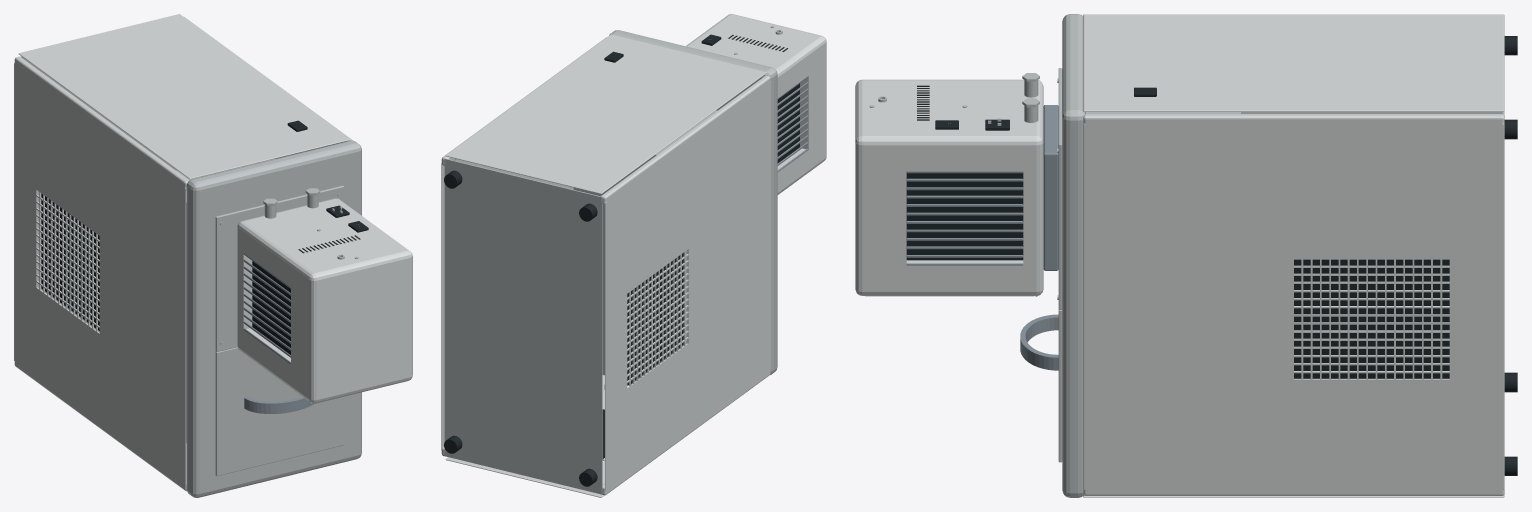
File: prepared_bath.glb
3 renders of one model, left to right at view 1: azimuth 30°, elevation 25°; view 2: azimuth 150°, elevation 25°; view 3: azimuth 270°, elevation 25°, orthographic. The views are drawn at different scales.
Visible parts, largest first — view 1: side_shell_-1, rear_shell, controller_case, reservoir_rim, bath_lid, controller_bridge, side_vent_interior_-1, corner_rail_-1_0.23, head_side_vent_-1, corner_rail_-1_-0.23, lid_handle, bottom_shell; view 2: bottom_shell, side_shell_-1, rear_shell, controller_case, reservoir_rim, side_vent_interior_-1, corner_rail_-1_0.23, side_shell_1, head_side_vent_-1, corner_rail_-1_-0.23, front_shell, reservoir_bottom; view 3: side_shell_1, rear_shell, controller_case, side_vent_interior_1, reservoir_rim, head_side_vent_1, corner_rail_1_0.23, corner_rail_1_-0.23, controller_pedestal, lid_handle, controller_bridge, front_shell (+2 smaller).
Part boxes in pixels (left/top/right/bottom): side_shell_-1: left=14, top=63, right=186, bottom=485; rear_shell: left=18, top=14, right=350, bottom=179; controller_case: left=237, top=198, right=412, bottom=403; reservoir_rim: left=186, top=140, right=361, bottom=497; bath_lid: left=215, top=347, right=344, bottom=476; controller_bridge: left=215, top=185, right=344, bottom=351; side_vent_interior_-1: left=41, top=193, right=99, bottom=330; corner_rail_-1_0.23: left=14, top=56, right=188, bottom=190; head_side_vent_-1: left=252, top=261, right=290, bottom=354; corner_rail_-1_-0.23: left=14, top=361, right=186, bottom=490; lid_handle: left=244, top=396, right=313, bottom=413; bottom_shell: left=20, top=56, right=176, bottom=332; bottom_shell: left=444, top=159, right=602, bottom=494; side_shell_-1: left=605, top=81, right=771, bottom=490; rear_shell: left=445, top=34, right=766, bottom=194; controller_case: left=686, top=14, right=826, bottom=194; reservoir_rim: left=609, top=30, right=777, bottom=374; side_vent_interior_-1: left=627, top=253, right=683, bottom=385; corner_rail_-1_0.23: left=601, top=75, right=770, bottom=204; side_shell_1: left=441, top=159, right=573, bottom=450; head_side_vent_-1: left=777, top=83, right=799, bottom=163; corner_rail_-1_-0.23: left=601, top=370, right=770, bottom=495; front_shell: left=445, top=375, right=604, bottom=497; reservoir_bottom: left=573, top=154, right=679, bottom=381; side_shell_1: left=1083, top=123, right=1504, bottom=489; rear_shell: left=1083, top=14, right=1504, bottom=111; controller_case: left=855, top=79, right=1043, bottom=295; side_vent_interior_1: left=1294, top=259, right=1449, bottom=378; reservoir_rim: left=1062, top=14, right=1085, bottom=497; head_side_vent_1: left=906, top=173, right=1023, bottom=260; corner_rail_1_0.23: left=1083, top=114, right=1504, bottom=125; corner_rail_1_-0.23: left=1083, top=489, right=1504, bottom=495; controller_pedestal: left=1043, top=105, right=1058, bottom=270; lid_handle: left=1020, top=314, right=1058, bottom=370; controller_bridge: left=1058, top=68, right=1062, bottom=309; front_shell: left=1083, top=494, right=1504, bottom=497.
Size of the model in its own units: 0.273 by 0.513 by 0.749.
